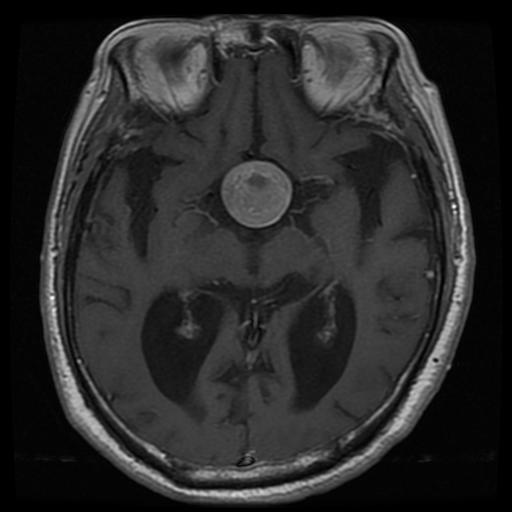Pituirity_tumour: (221, 159, 290, 227)
